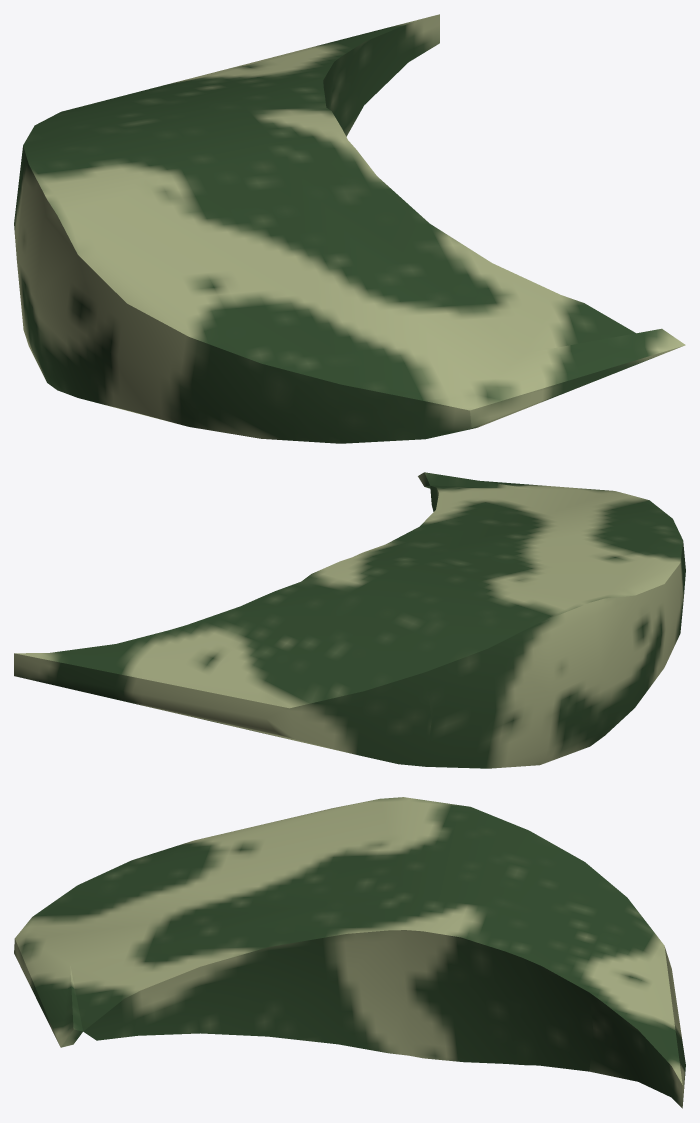
Rendered from link_body_32.obj.
3 views of the same model, one above another, from view 1: azimuth 30°, elevation 25°; view 2: azimuth 150°, elevation 25°; view 3: azimuth 270°, elevation 25° (orthographic). The views are drawn at different scales.
Visible parts, largest first — view 1: link_body_32; view 2: link_body_32; view 3: link_body_32.
Part boxes in pixels (x1=…): link_body_32: x1=14, y1=14, x2=685, y2=443; link_body_32: x1=14, y1=472, x2=685, y2=768; link_body_32: x1=14, y1=797, x2=685, y2=1108.
Size of the model in its own units: 7.34 by 2.2 by 8.95.
